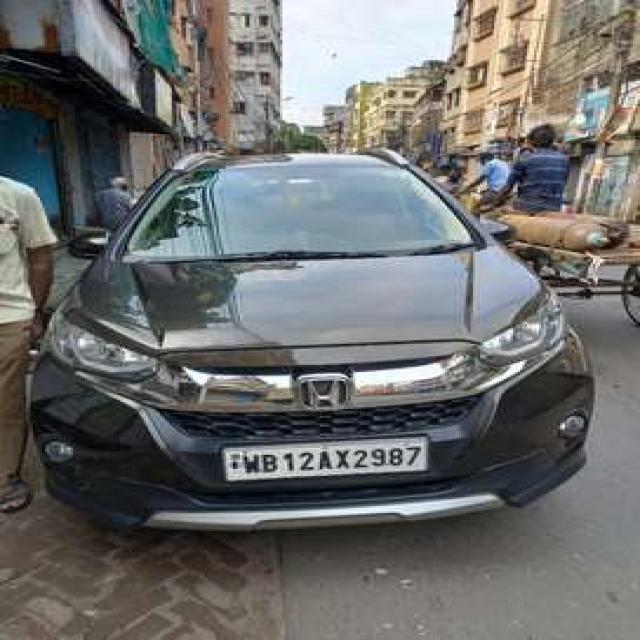Plate: (220, 433, 427, 481)
